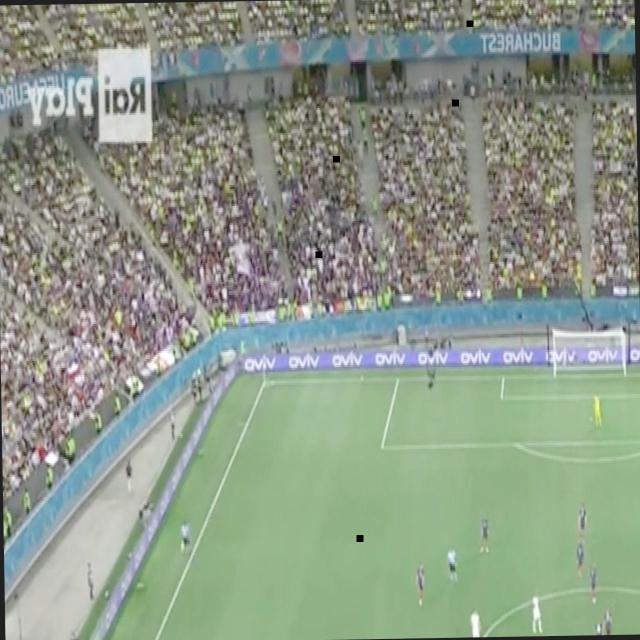ball: (103, 588, 110, 598), (178, 430, 183, 440)
player-white: (530, 587, 544, 635), (178, 518, 194, 560), (415, 560, 427, 608), (478, 514, 491, 556), (446, 544, 458, 584), (589, 560, 599, 606), (578, 502, 588, 545), (593, 388, 603, 430), (470, 605, 483, 637), (576, 540, 586, 580), (604, 605, 614, 635), (594, 620, 607, 635)
